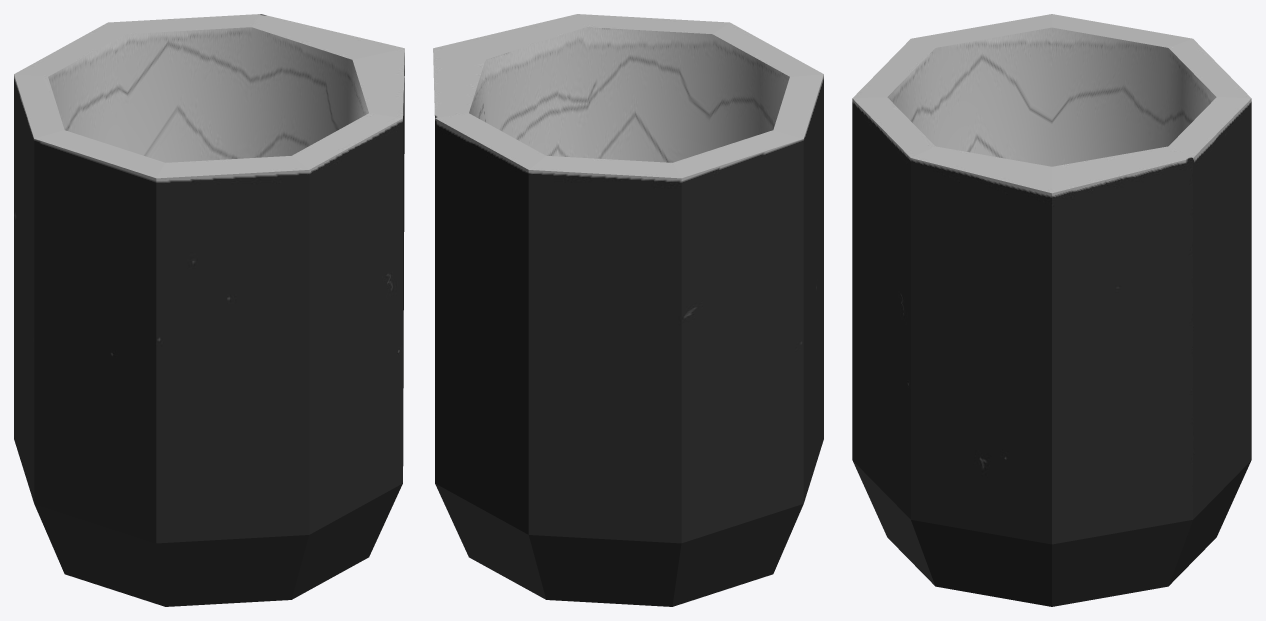
Rendered from Tiegel_2.fbx.
3 views of the same model, side by side, from view 1: azimuth 30°, elevation 25°; view 2: azimuth 150°, elevation 25°; view 3: azimuth 270°, elevation 25° (orthographic).
Parts seen in each view (by area): view 1: TiegeL_2; view 2: TiegeL_2; view 3: TiegeL_2.
Boxes of the visible parts, box(x1,y1,x2,y2) form: TiegeL_2: box(14, 14, 404, 606); TiegeL_2: box(433, 14, 823, 606); TiegeL_2: box(852, 14, 1251, 606).
Size of the model in its own units: 194 by 222 by 182.
1 material, 1 textured.
